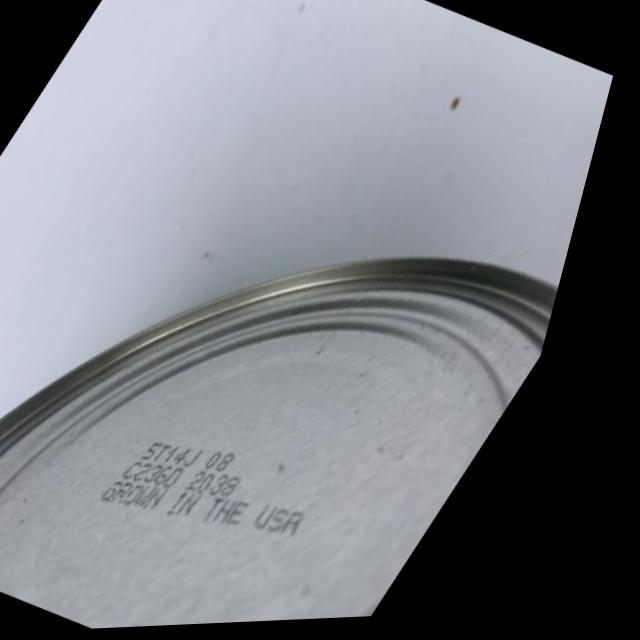metal: (0, 27, 630, 640)
